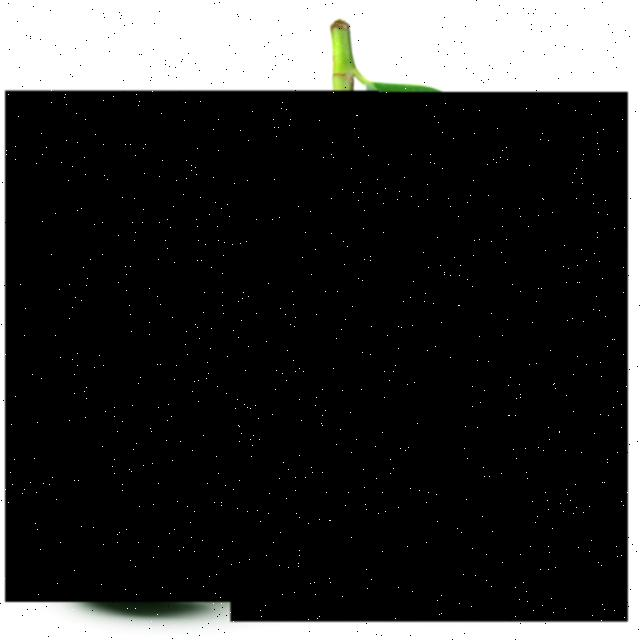Avocado: (230, 92, 628, 622), (5, 91, 379, 602)
